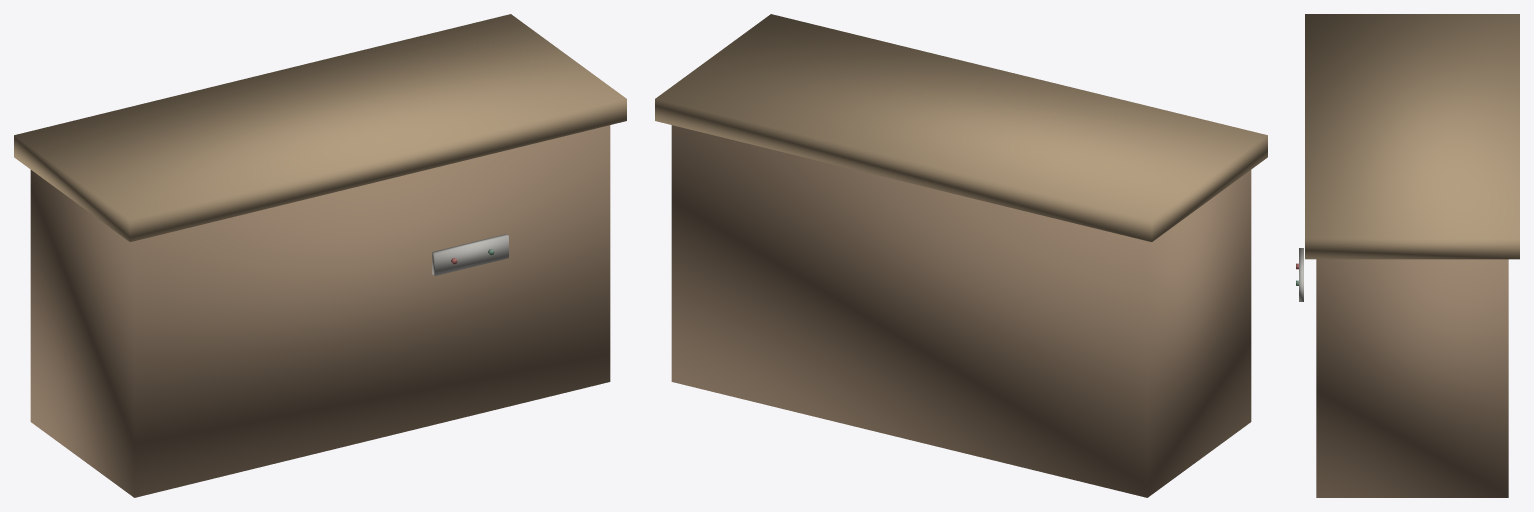
Rendered from florist_wrapping_counter.glb.
The picture shows the model from 3 angles, left to right: view 1: azimuth 30°, elevation 25°; view 2: azimuth 150°, elevation 25°; view 3: azimuth 270°, elevation 25°; orthographic projection. The views are drawn at different scales.
Visible parts, largest first — view 1: world; view 2: world; view 3: world.
Boxes of the visible parts, left/top/right/bottom form: world: left=14, top=14, right=626, bottom=497; world: left=655, top=14, right=1267, bottom=497; world: left=1296, top=14, right=1519, bottom=497.
Bounding box in the file's own units: 1.88 × 1.03 × 0.791.
